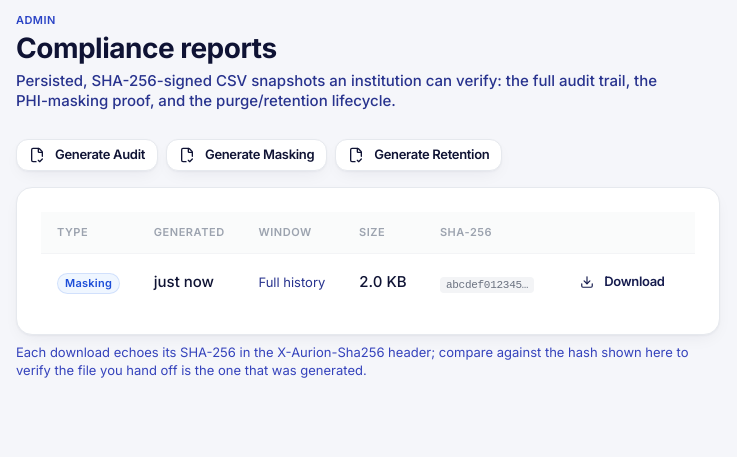
Test case: AdminCompliancePage › generate posts the type and refreshes with the sha toast
Click the button with test id "generate-retention": [419, 155] box [335,139,502,171]
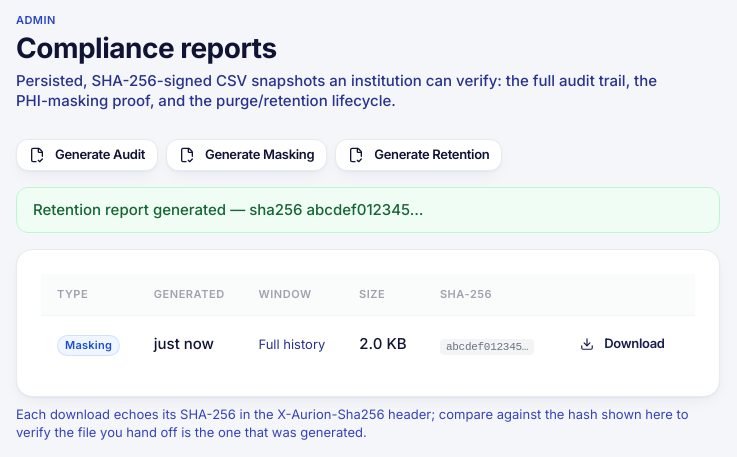
Check: the message shows "sha256 abcdef012345", box [33,200,423,219]
